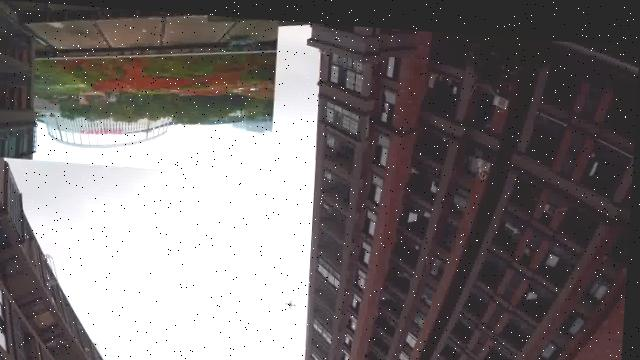drone: (286, 294, 304, 307)
